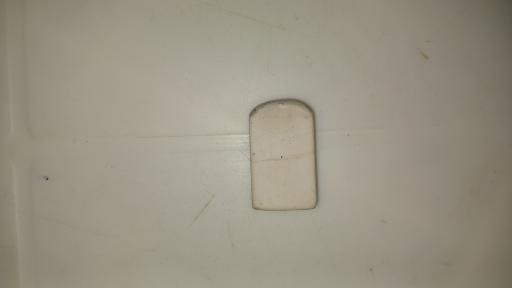Eraser: (249, 98, 319, 211)
